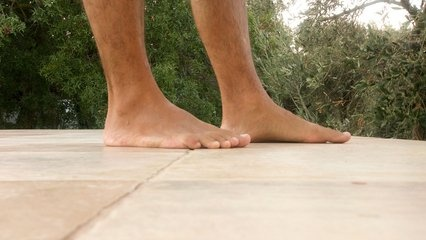feet: (78, 65, 250, 152)
